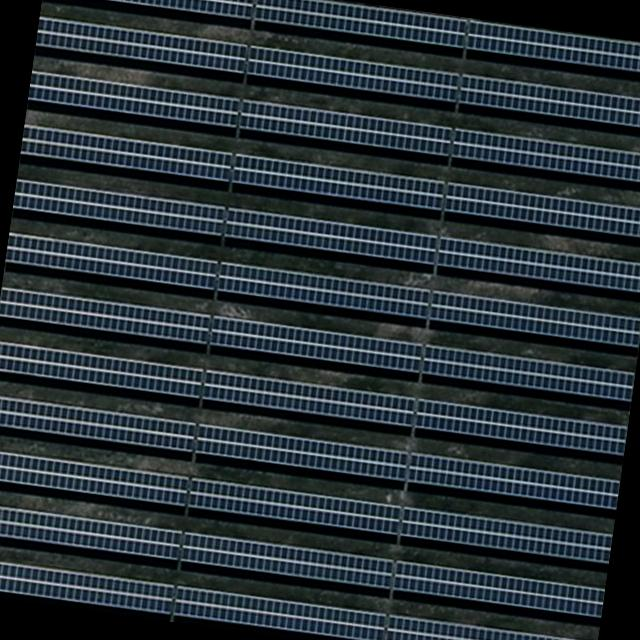solar: (244, 43, 462, 106), (178, 530, 396, 593), (191, 422, 409, 485), (206, 314, 424, 377), (186, 476, 402, 539), (236, 98, 454, 160), (221, 206, 439, 268), (200, 368, 418, 430), (229, 151, 446, 213), (215, 260, 432, 322), (404, 451, 620, 513), (419, 342, 635, 404), (12, 177, 226, 239), (20, 124, 232, 186), (28, 68, 240, 130), (390, 559, 604, 620), (398, 505, 612, 566), (5, 232, 218, 293), (0, 285, 212, 346), (36, 15, 248, 76), (412, 398, 627, 458), (426, 290, 640, 350), (434, 235, 640, 297), (0, 339, 204, 400), (0, 393, 197, 455), (171, 584, 387, 640), (442, 181, 640, 242), (450, 126, 640, 187), (0, 448, 188, 509), (456, 73, 640, 134), (0, 501, 182, 562), (0, 554, 175, 617), (252, 0, 468, 50), (463, 19, 640, 79), (383, 614, 596, 640), (43, 0, 255, 22)
